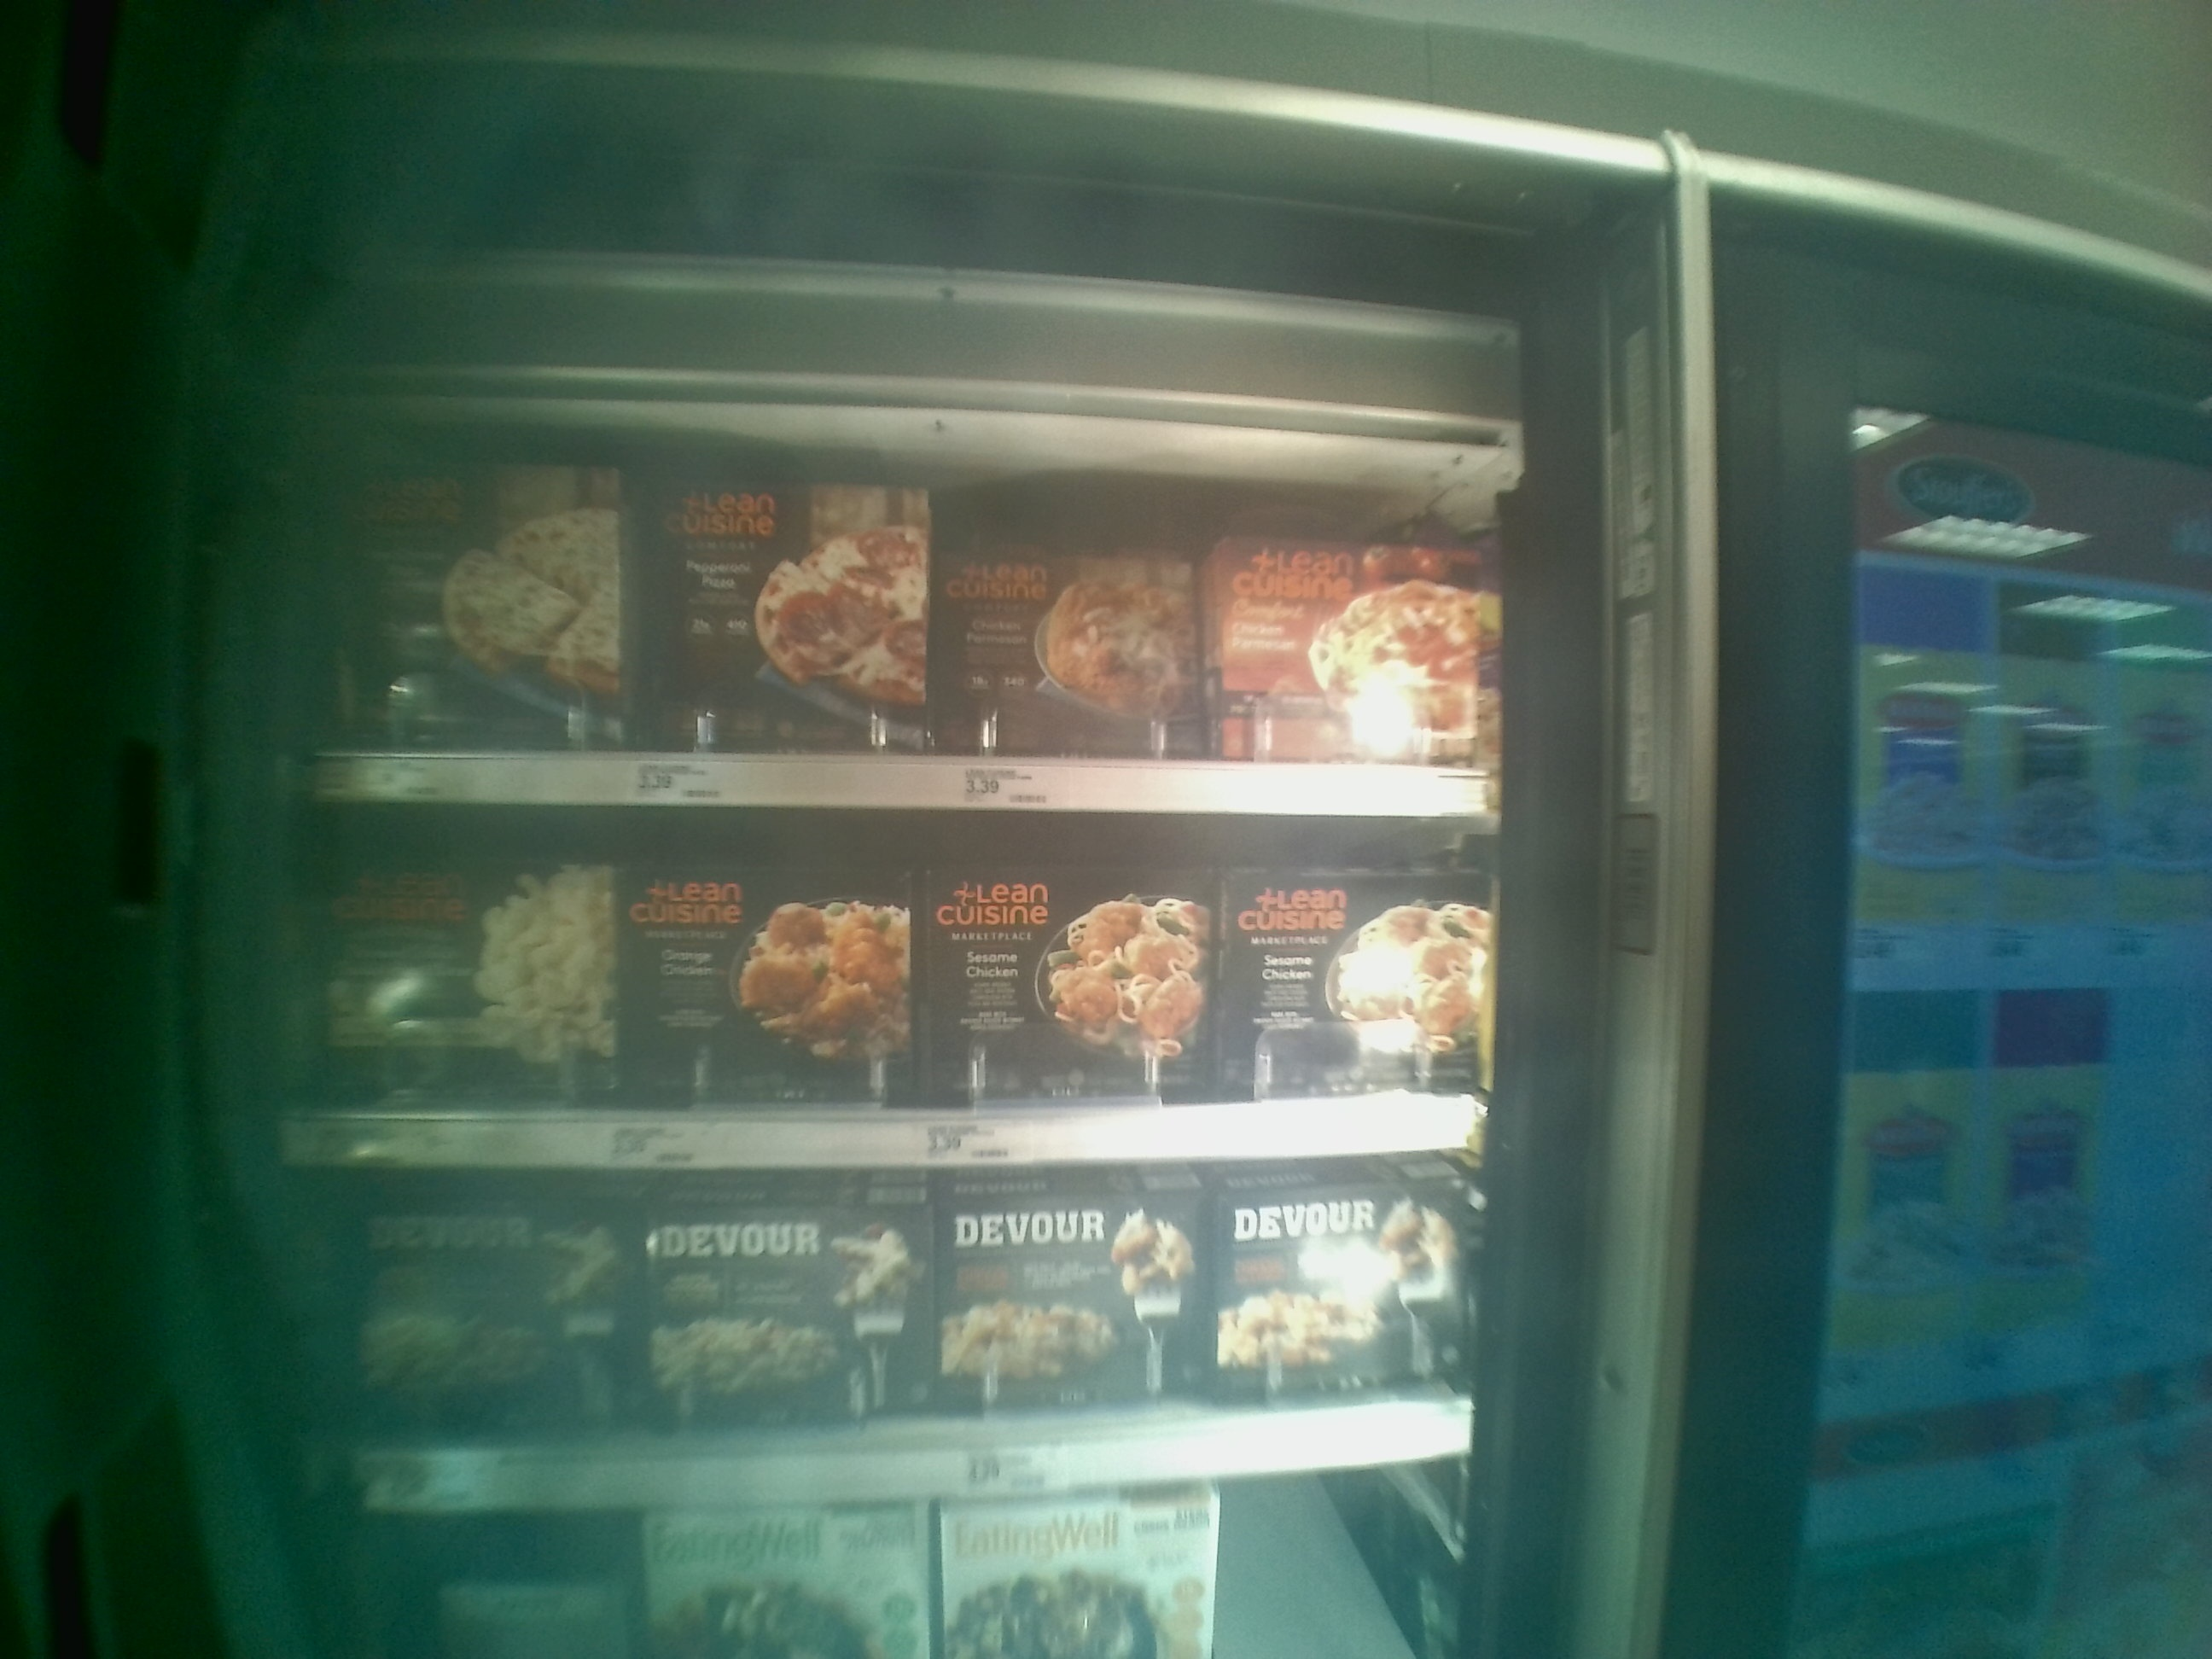pizza: (329, 465, 617, 748), (648, 472, 927, 749), (310, 859, 625, 1094), (622, 873, 934, 1110), (927, 857, 1219, 1091), (1204, 542, 1500, 767), (1223, 873, 1501, 1100), (643, 1202, 944, 1412), (361, 1206, 637, 1422), (1204, 1180, 1475, 1385), (932, 532, 1190, 748), (949, 1194, 1195, 1396)
